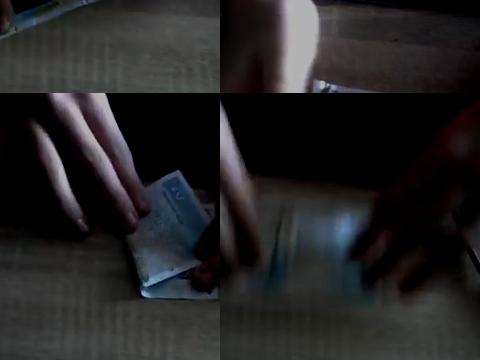20leva: (122, 170, 219, 301)
